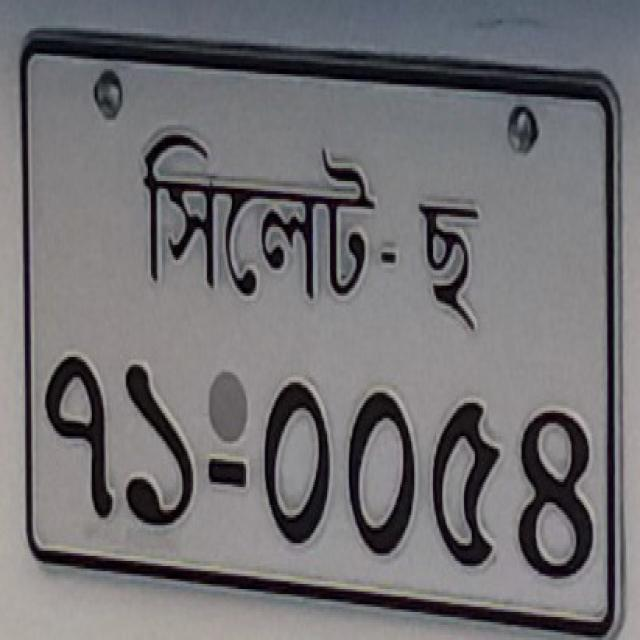numberplate: (16, 25, 624, 635)
